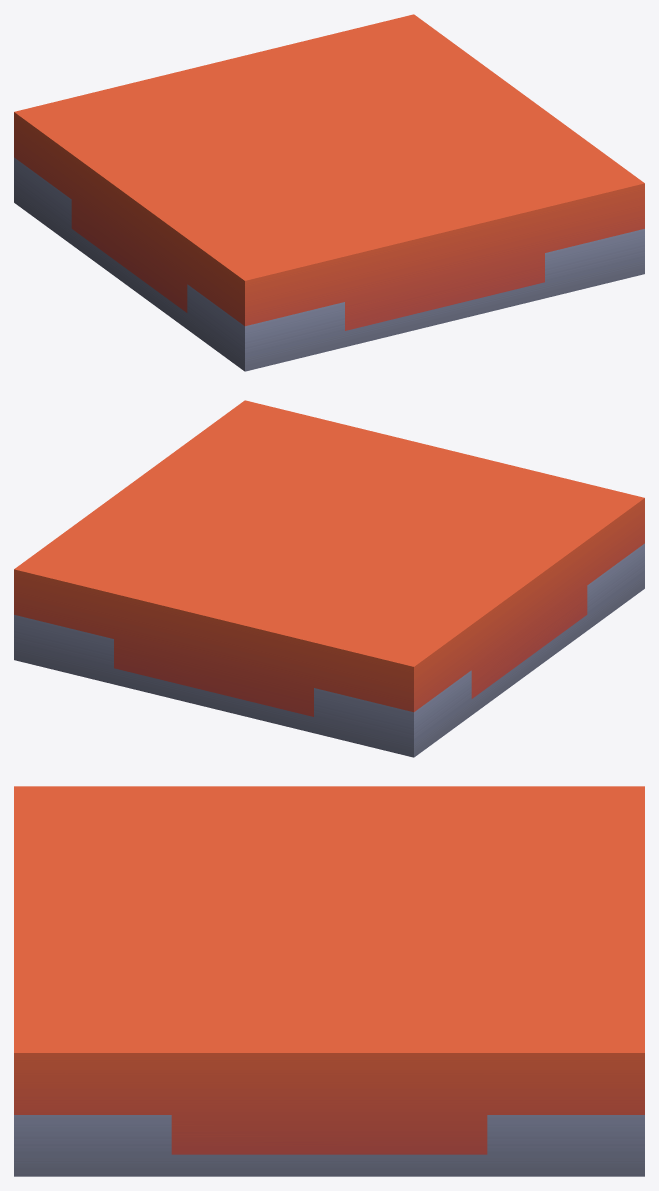
The model's file is tower-square-mid-color.fbx.
3 views of the same model, one above another, from view 1: azimuth 30°, elevation 25°; view 2: azimuth 150°, elevation 25°; view 3: azimuth 270°, elevation 25° (orthographic). The views are drawn at different scales.
Visible parts, largest first — view 1: tower-square-mid-color; view 2: tower-square-mid-color; view 3: tower-square-mid-color.
Boxes of the visible parts, left/top/right/bottom form: tower-square-mid-color: left=14, top=14, right=644, bottom=371; tower-square-mid-color: left=14, top=400, right=644, bottom=757; tower-square-mid-color: left=14, top=786, right=644, bottom=1176.
Size of the model in its own units: 0.93 by 0.93 by 0.2016.
